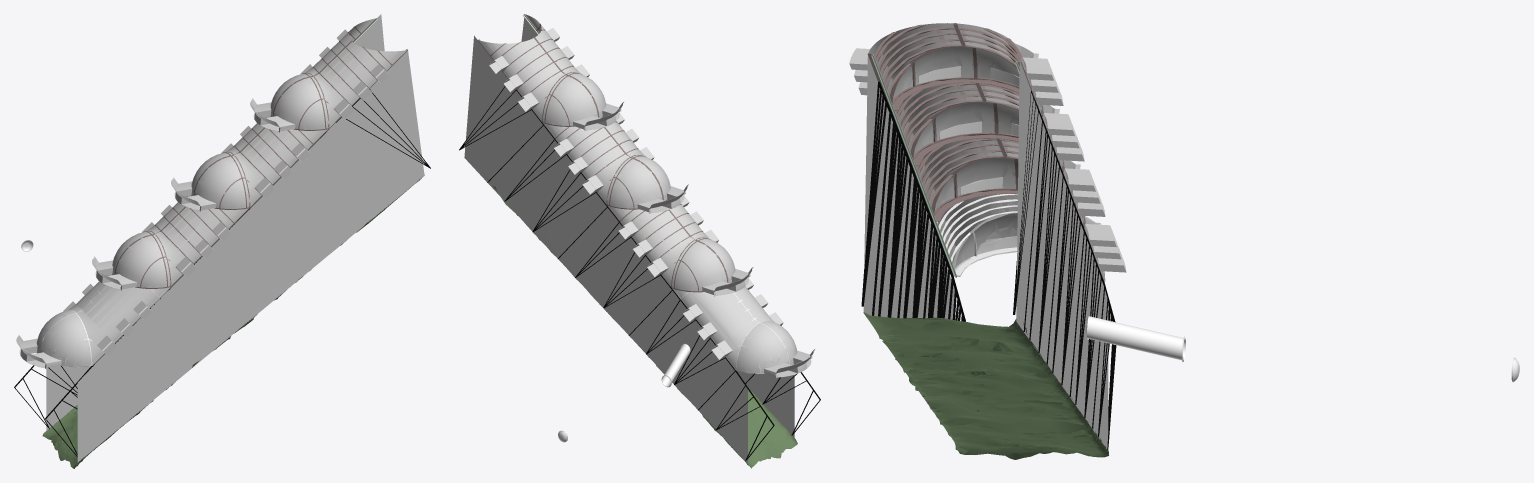
The model's file is First_Gallery_Lower_MiddlePart.glb.
3 views of the same model, side by side, from view 1: azimuth 30°, elevation 25°; view 2: azimuth 150°, elevation 25°; view 3: azimuth 270°, elevation 25° (orthographic). The views are drawn at different scales.
Parts seen in each view (by area): view 1: FirstGalleryWalls_Middle1, Vaults2, FirstGalleryWalls_Middle, Vaults1, Windows1, Beams2, Windows2, Beams1, Windows0, Vault0, FirstGalleryColumns-Middle, Bottom2 (+2 smaller); view 2: FirstGalleryWalls_Middle1, Vaults2, Vaults1, FirstGalleryWalls_Middle, Windows1, FirstGalleryColumns-Middle, Beams2, Windows0, Bottom2, Beams1, Windows2, Vault0 (+5 smaller); view 3: FirstGalleryWalls_Middle1, FirstGalleryColumns-Middle, Vaults1, Bottom2, Bottom0, Beams1, Bottom1, Beams2, FirstGalleryWalls_Middle, Vaults2, Windows1, Windows2 (+4 smaller).
Boxes of the visible parts, x1=… form: FirstGalleryWalls_Middle1: x1=46, y1=17, x2=424, y2=462; Vaults2: x1=37, y1=19, x2=406, y2=367; FirstGalleryWalls_Middle: x1=46, y1=14, x2=422, y2=460; Vaults1: x1=36, y1=18, x2=406, y2=367; Windows1: x1=92, y1=29, x2=389, y2=290; Beams2: x1=41, y1=18, x2=407, y2=366; Windows2: x1=16, y1=35, x2=370, y2=367; Beams1: x1=39, y1=19, x2=407, y2=366; Windows0: x1=95, y1=35, x2=386, y2=289; Vault0: x1=16, y1=286, x2=152, y2=368; FirstGalleryColumns-Middle: x1=14, y1=89, x2=430, y2=456; Bottom2: x1=42, y1=184, x2=413, y2=468; FirstGalleryWalls_Middle1: x1=464, y1=18, x2=794, y2=463; Vaults2: x1=478, y1=15, x2=797, y2=373; Vaults1: x1=479, y1=14, x2=796, y2=373; FirstGalleryWalls_Middle: x1=464, y1=18, x2=794, y2=448; Windows1: x1=489, y1=28, x2=752, y2=296; FirstGalleryColumns-Middle: x1=459, y1=86, x2=820, y2=461; Beams2: x1=485, y1=14, x2=789, y2=373; Windows0: x1=490, y1=61, x2=748, y2=295; Bottom2: x1=487, y1=179, x2=797, y2=468; Beams1: x1=478, y1=14, x2=789, y2=373; Windows2: x1=497, y1=55, x2=814, y2=377; Vault0: x1=683, y1=286, x2=814, y2=377; FirstGalleryWalls_Middle1: x1=863, y1=55, x2=1108, y2=449; FirstGalleryColumns-Middle: x1=861, y1=81, x2=1116, y2=450; Vaults1: x1=868, y1=23, x2=1105, y2=281; Bottom2: x1=863, y1=312, x2=1108, y2=459; Bottom0: x1=866, y1=315, x2=1108, y2=459; Beams1: x1=868, y1=23, x2=1104, y2=282; Bottom1: x1=864, y1=312, x2=1106, y2=459; Beams2: x1=867, y1=23, x2=1105, y2=282; FirstGalleryWalls_Middle: x1=864, y1=63, x2=1108, y2=423; Vaults2: x1=869, y1=23, x2=1105, y2=281; Windows1: x1=849, y1=43, x2=1105, y2=216; Windows2: x1=859, y1=46, x2=1126, y2=272.
Size of what is drawn, in the model's own units: 194 by 183 by 159.
